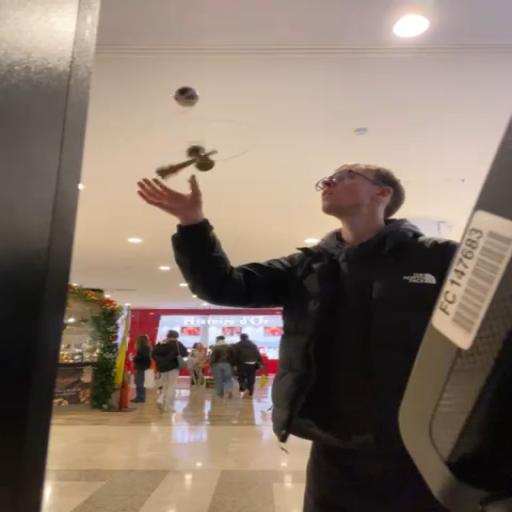kendama_ball: (172, 86, 200, 108)
